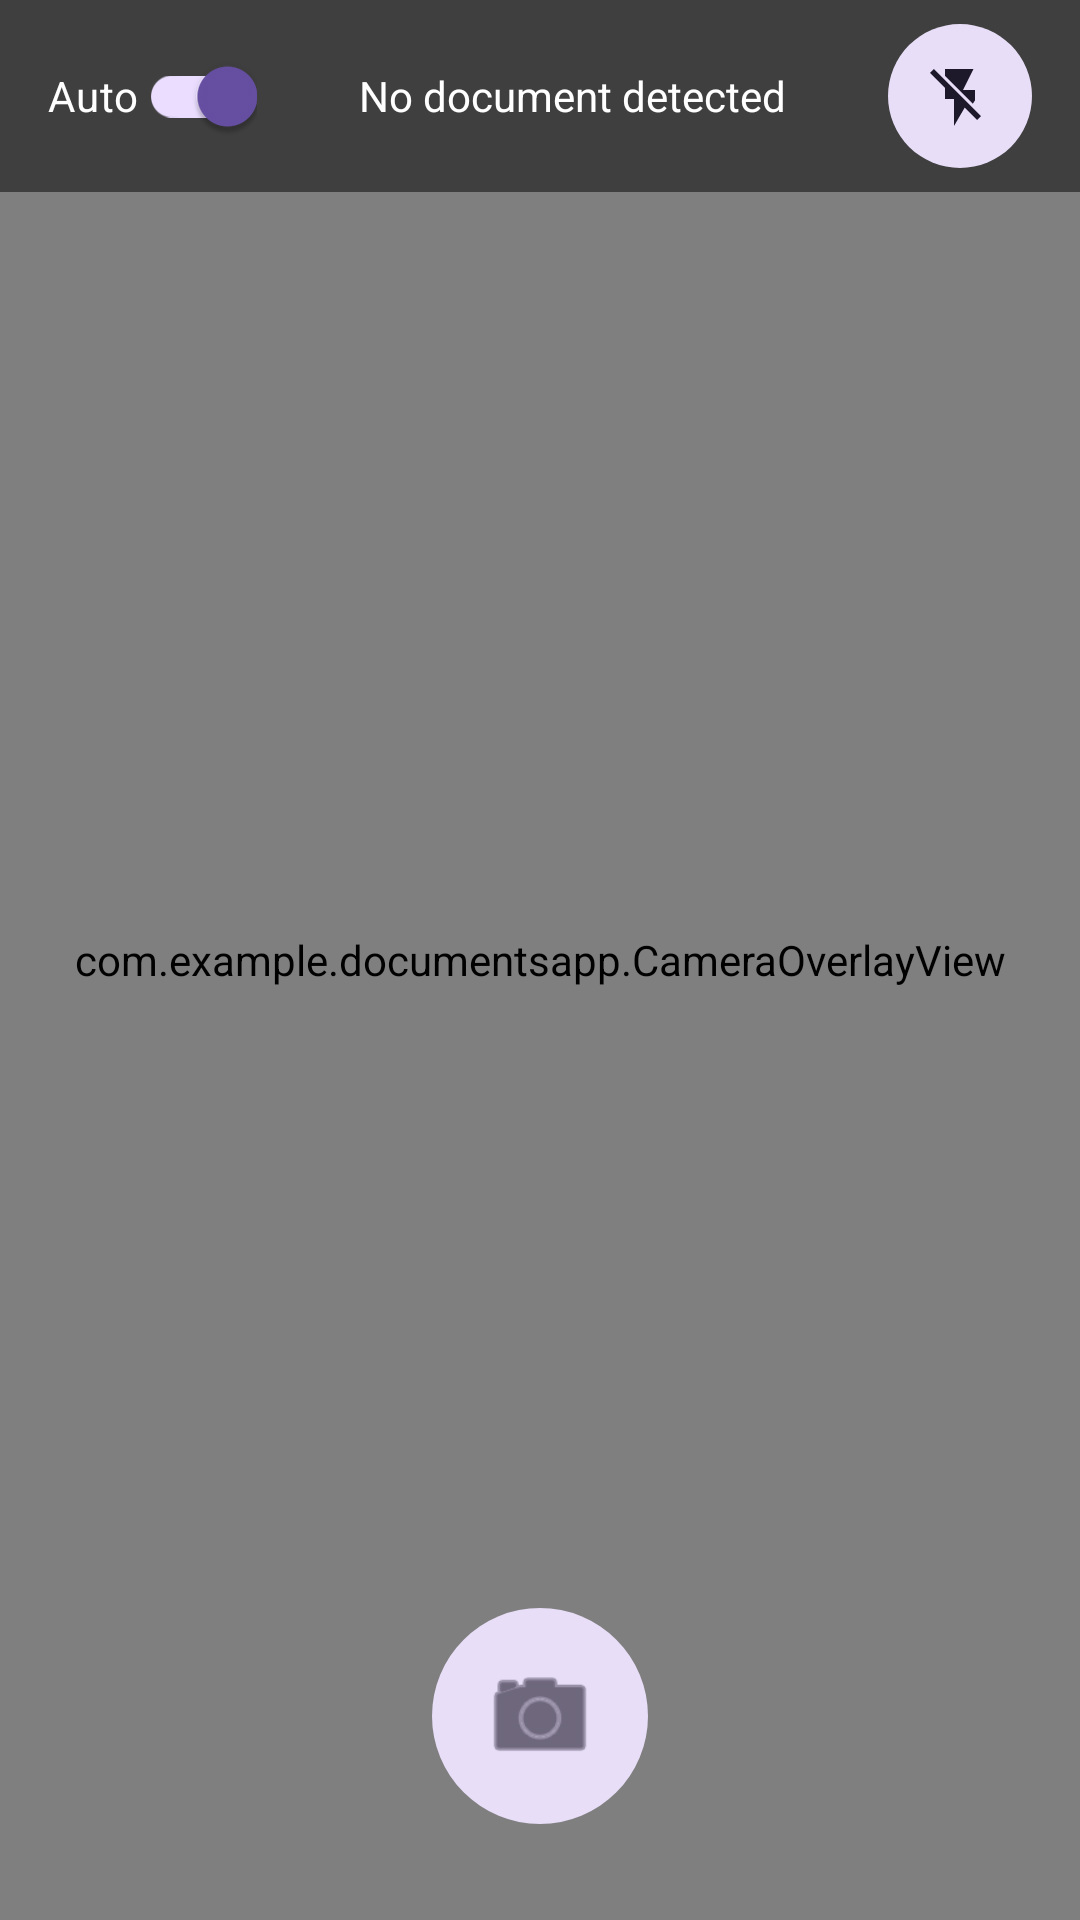

Screen size 1080×1920. Icon name, then its box in pixels as [left=x1, top=y1, right=x2, bottom=y2]:
flash off: [left=888, top=24, right=1032, bottom=168]
